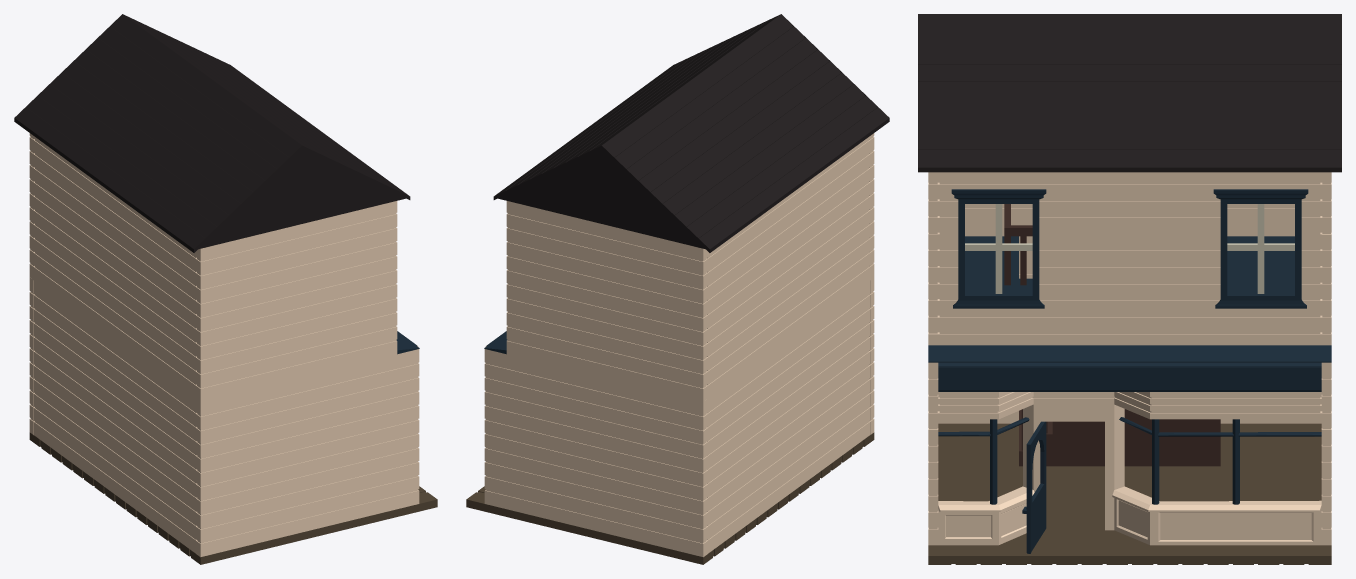
Rendered from House_03.fbx.
3 views of the same model, side by side, from view 1: azimuth 30°, elevation 25°; view 2: azimuth 150°, elevation 25°; view 3: azimuth 270°, elevation 25° (orthographic). The views are drawn at different scales.
Parts seen in each view (by area): view 1: House_03_Merged; view 2: House_03_Merged; view 3: House_03_Merged.
Part boxes in pixels (x1,y1,x2,y2): House_03_Merged: (14, 14, 437, 564); House_03_Merged: (466, 14, 889, 564); House_03_Merged: (918, 14, 1341, 564).
Size of the model in its own units: 335 by 515 by 420.
